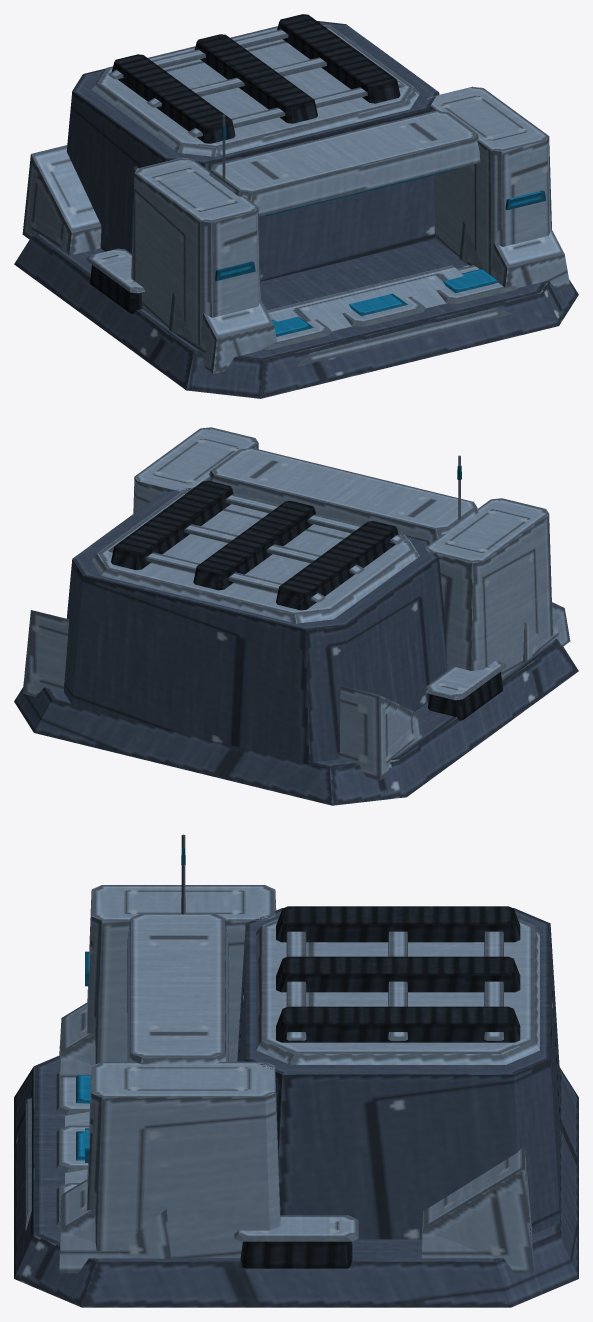
The model's file is building-light_depot.fbx.
The picture shows the model from 3 angles, top to bottom: view 1: azimuth 30°, elevation 25°; view 2: azimuth 150°, elevation 25°; view 3: azimuth 270°, elevation 25°; orthographic projection. The views are drawn at different scales.
Visible parts, largest first — view 1: building-light_depot; view 2: building-light_depot; view 3: building-light_depot.
Boxes of the visible parts, x1,y1,x2,y2 form: building-light_depot: (14,14,578,398); building-light_depot: (14,427,578,805); building-light_depot: (14,834,578,1307).
Bounding box in the file's own units: 2184 × 1200 × 2184.
Materials: 1 (1 with a texture image).
